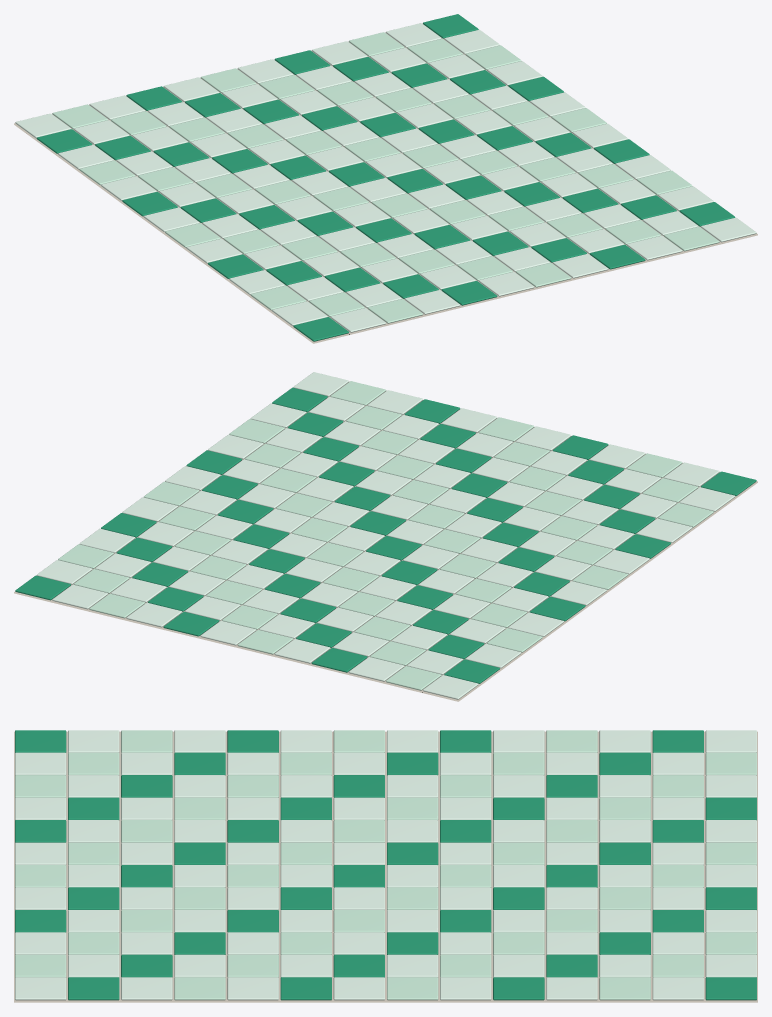
File: SecondLabFloor.fbx
3 views of the same model, one above another, from view 1: azimuth 30°, elevation 25°; view 2: azimuth 150°, elevation 25°; view 3: azimuth 270°, elevation 25° (orthographic). The views are drawn at different scales.
Visible parts, largest first — view 1: SecondLabFloor mesh; view 2: SecondLabFloor mesh; view 3: SecondLabFloor mesh.
Boxes of the visible parts, x1,y1,x2,y2 form: SecondLabFloor mesh: (14,14,757,343); SecondLabFloor mesh: (14,372,757,701); SecondLabFloor mesh: (14,730,757,1002).
Bounding box in the file's own units: 7.5 × 0.05 × 8.75.
